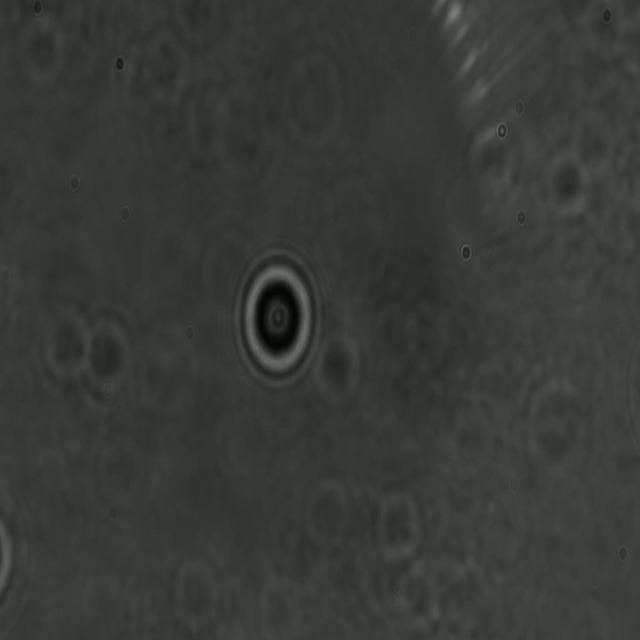LCELL: (229, 244, 327, 393)
